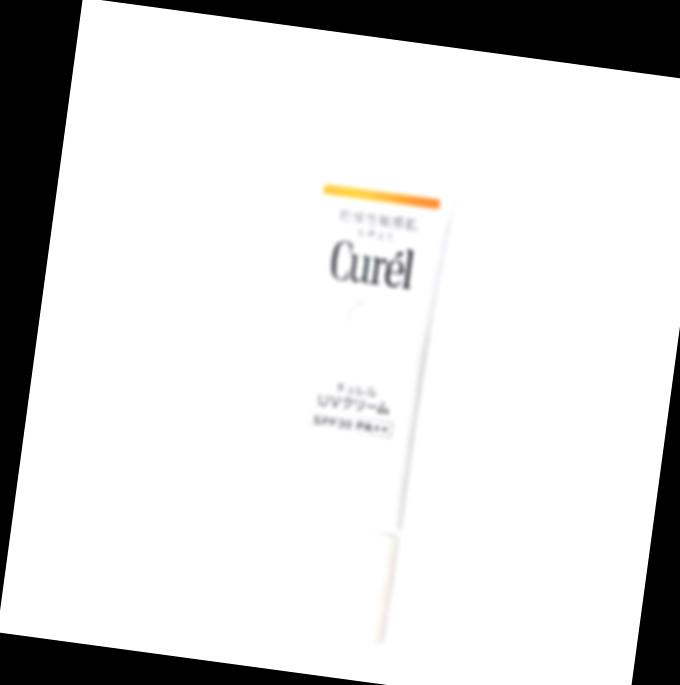cosmetic: (236, 94, 477, 645)
